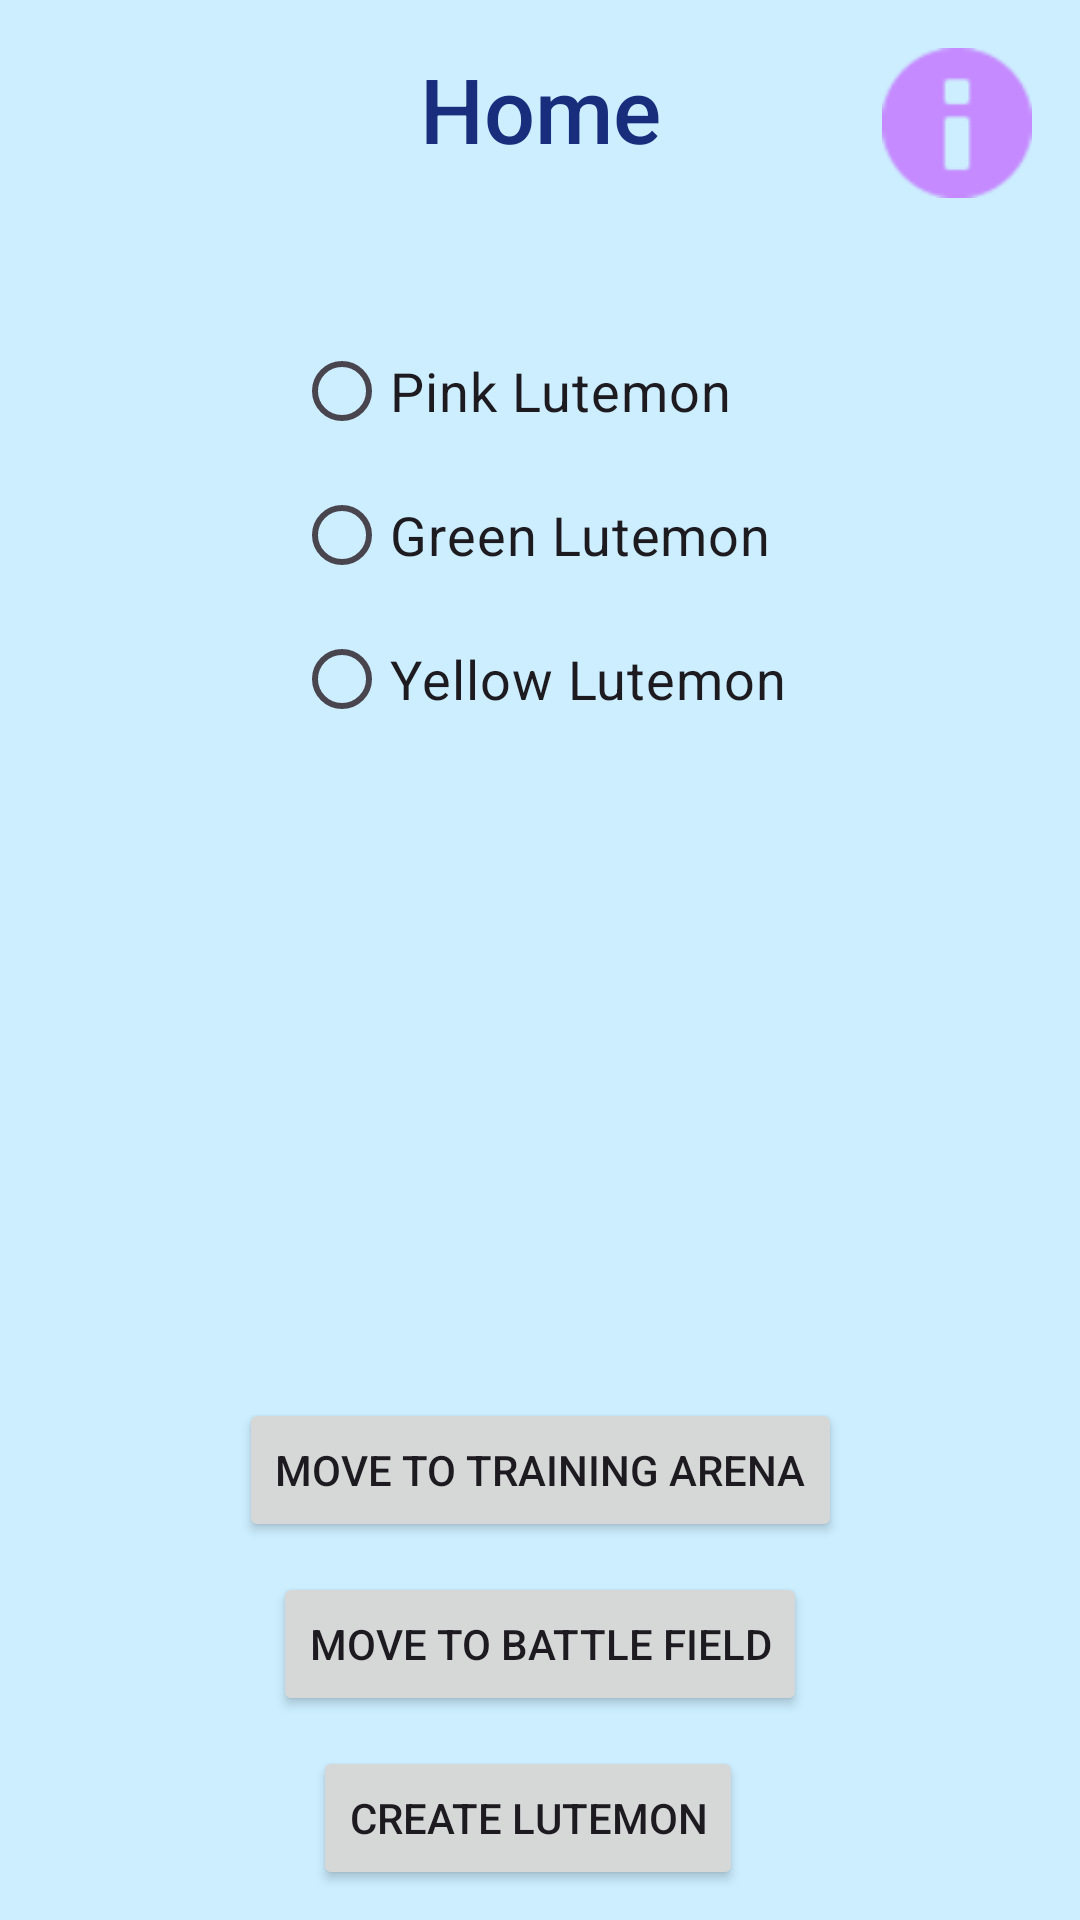

Icons on this 1080 × 1920 Android screen, each with the point to tap as (x=x, y=y):
info: (x=957, y=123)
